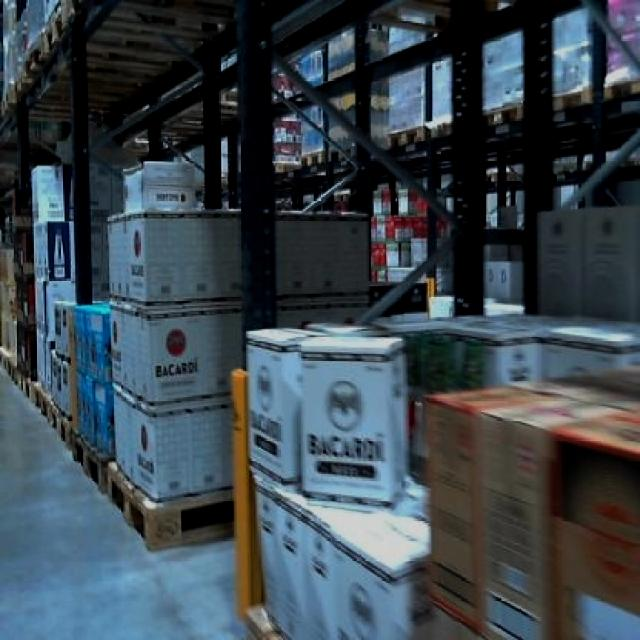pallets: (252, 469, 428, 637), (298, 335, 405, 500), (109, 298, 240, 398)
